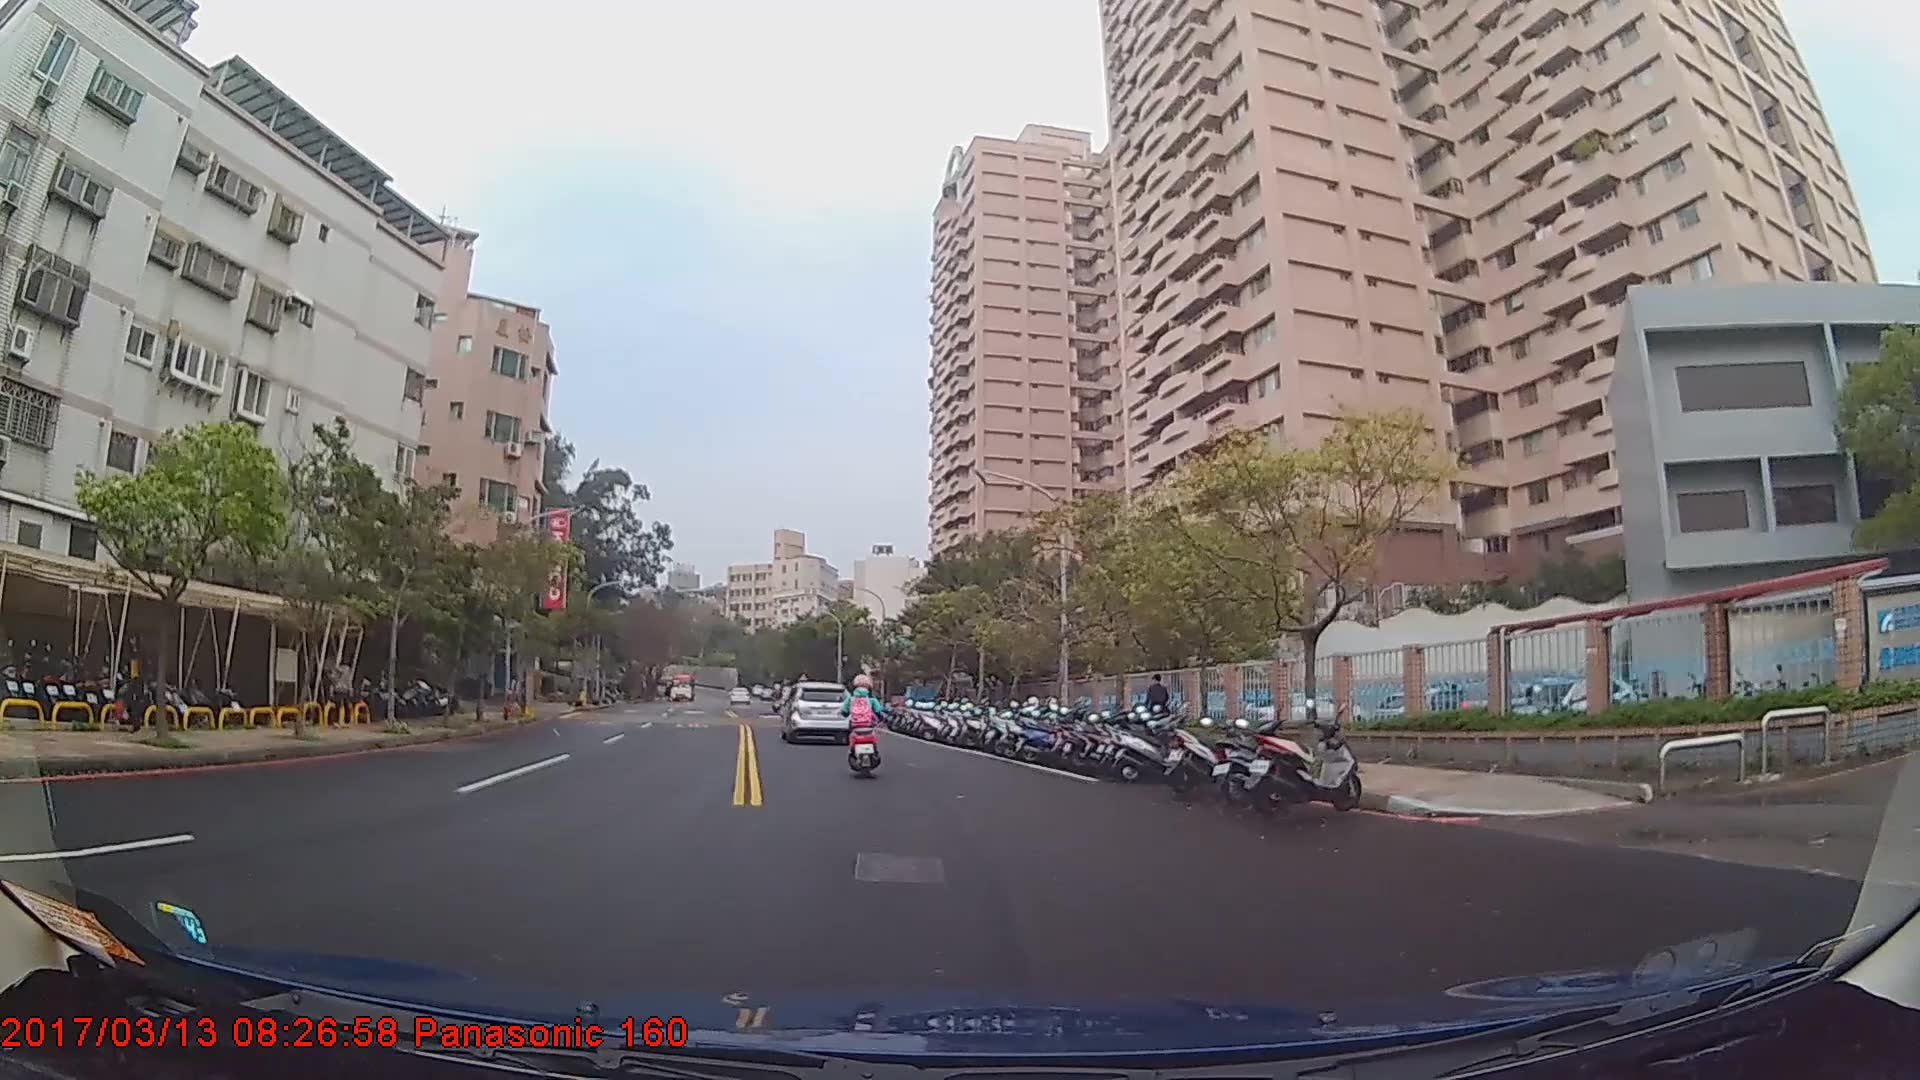pedestrian: (115, 625, 155, 731), (329, 651, 356, 729), (1145, 673, 1174, 745)
rider: (846, 668, 886, 769)
vehicle: (780, 679, 850, 743), (665, 668, 697, 698)
